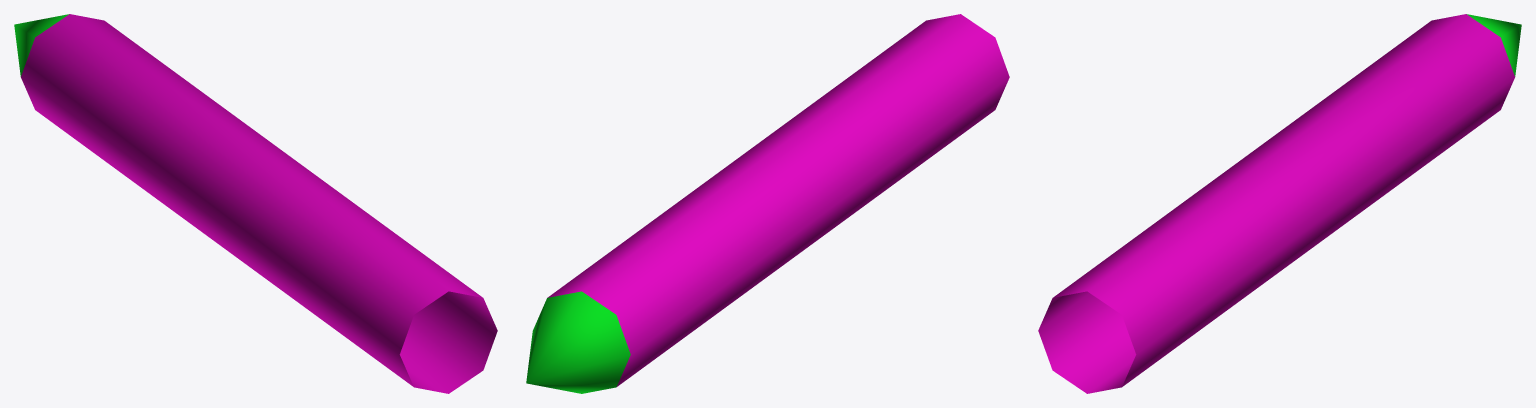
Rendered from Spike.fbx.
3 renders of one model, left to right at view 1: azimuth 30°, elevation 25°; view 2: azimuth 150°, elevation 25°; view 3: azimuth 330°, elevation 25°, orthographic.
Parts seen in each view (by area): view 1: Cylinder; view 2: Cylinder; view 3: Cylinder.
Part boxes in pixels (x1,y1,x2,y2): Cylinder: (14, 14, 497, 393); Cylinder: (526, 14, 1009, 393); Cylinder: (1038, 14, 1521, 393).
Size of the model in its own units: 59.8 by 59.8 by 459.
